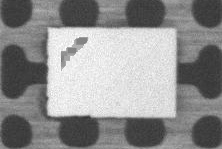DIE_INK: (61, 34, 89, 69)
